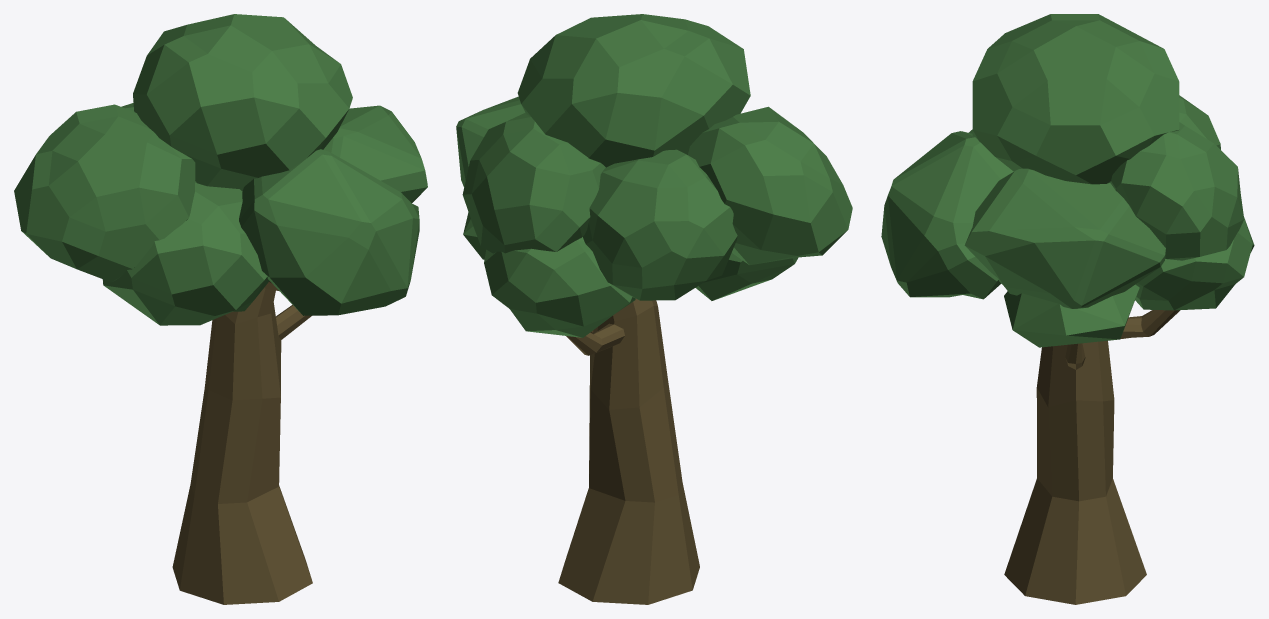
File: Tree.fbx
The picture shows the model from 3 angles, left to right: view 1: azimuth 30°, elevation 25°; view 2: azimuth 150°, elevation 25°; view 3: azimuth 270°, elevation 25°; orthographic projection. The views are drawn at different scales.
Parts seen in each view (by area): view 1: Stump, Icosphere, Icosphere.002, Icosphere.006, Icosphere.008, Icosphere.007; view 2: Stump, Icosphere, Icosphere.009, Icosphere.002, Icosphere.010, Icosphere.003, Icosphere.008, Icosphere.007; view 3: Icosphere, Stump, Icosphere.007, Icosphere.006, Icosphere.010, Icosphere.003, Icosphere.001, Icosphere.009.
Boxes of the visible parts, x1=… form: Stump: x1=172, y1=281, x2=312, y2=604; Icosphere: x1=133, y1=14, x2=352, y2=190; Icosphere.002: x1=14, y1=104, x2=195, y2=282; Icosphere.006: x1=239, y1=149, x2=419, y2=315; Icosphere.008: x1=102, y1=182, x2=269, y2=325; Icosphere.007: x1=323, y1=105, x2=427, y2=202; Stump: x1=558, y1=299, x2=699, y2=604; Icosphere: x1=517, y1=14, x2=750, y2=167; Icosphere.009: x1=583, y1=149, x2=737, y2=300; Icosphere.002: x1=687, y1=106, x2=852, y2=265; Icosphere.010: x1=462, y1=112, x2=605, y2=253; Icosphere.003: x1=484, y1=237, x2=635, y2=337; Icosphere.008: x1=695, y1=253, x2=798, y2=300; Icosphere.007: x1=456, y1=96, x2=525, y2=187; Icosphere: x1=972, y1=14, x2=1179, y2=184; Stump: x1=1004, y1=310, x2=1180, y2=604; Icosphere.007: x1=964, y1=168, x2=1165, y2=308; Icosphere.006: x1=881, y1=131, x2=1013, y2=299; Icosphere.010: x1=1110, y1=122, x2=1244, y2=260; Icosphere.003: x1=1135, y1=217, x2=1254, y2=310; Icosphere.001: x1=1004, y1=284, x2=1139, y2=347; Icosphere.009: x1=1179, y1=95, x2=1220, y2=149.
Size of the model in its own units: 3299 by 4556 by 2837.
